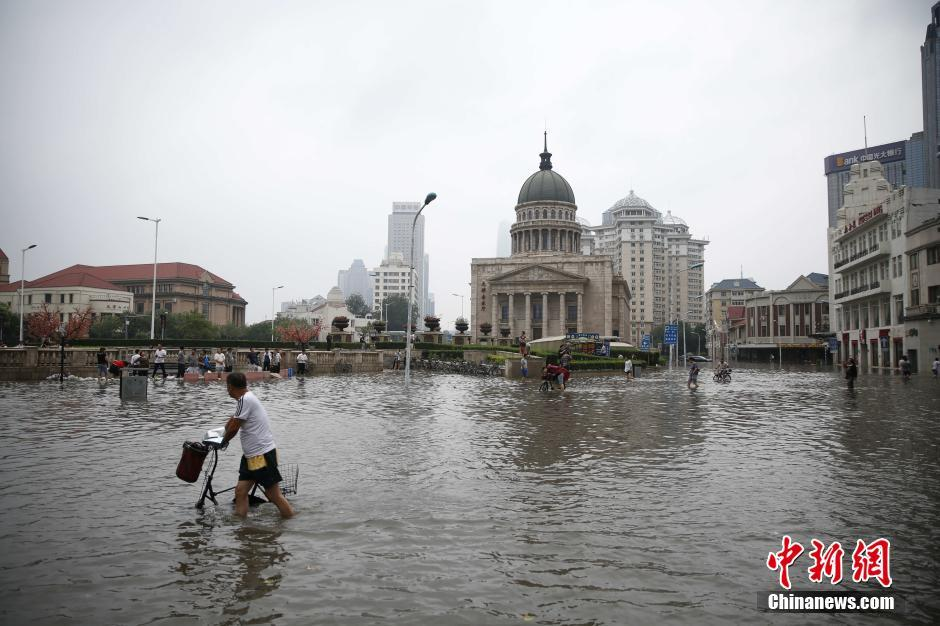puddle: (1, 366, 937, 618)
